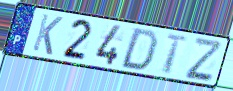2: (61, 19, 94, 63)
4: (93, 24, 123, 67)
D: (118, 27, 160, 72)
K: (30, 12, 64, 57)
T: (162, 32, 189, 76)
Z: (184, 36, 223, 82)
